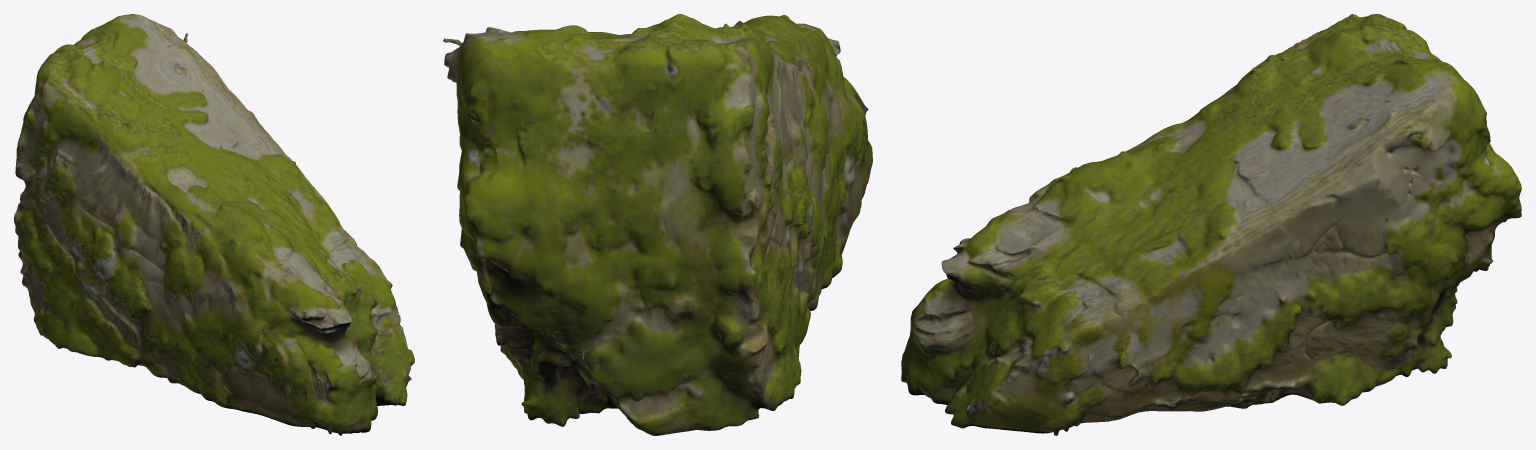
Rendered from rock.mossy.glb.
3 views of the same model, side by side, from view 1: azimuth 30°, elevation 25°; view 2: azimuth 150°, elevation 25°; view 3: azimuth 270°, elevation 25° (orthographic). The views are drawn at different scales.
Parts seen in each view (by area): view 1: tripo_part_2, tripo_part_1, tripo_part_3; view 2: tripo_part_2, tripo_part_1, tripo_part_3; view 3: tripo_part_2, tripo_part_0.
Boxes of the visible parts, box(x1,y1,x2,y2) form: tripo_part_2: box(14, 14, 414, 435); tripo_part_1: box(75, 226, 150, 321); tripo_part_3: box(31, 152, 76, 204); tripo_part_2: box(443, 14, 872, 435); tripo_part_1: box(792, 167, 822, 260); tripo_part_3: box(761, 112, 782, 229); tripo_part_2: box(901, 14, 1521, 435); tripo_part_0: box(1094, 333, 1151, 389).
Size of the model in its own units: 0.5493 by 0.5623 by 0.9999.
Materials: 4 (4 with a texture image).
